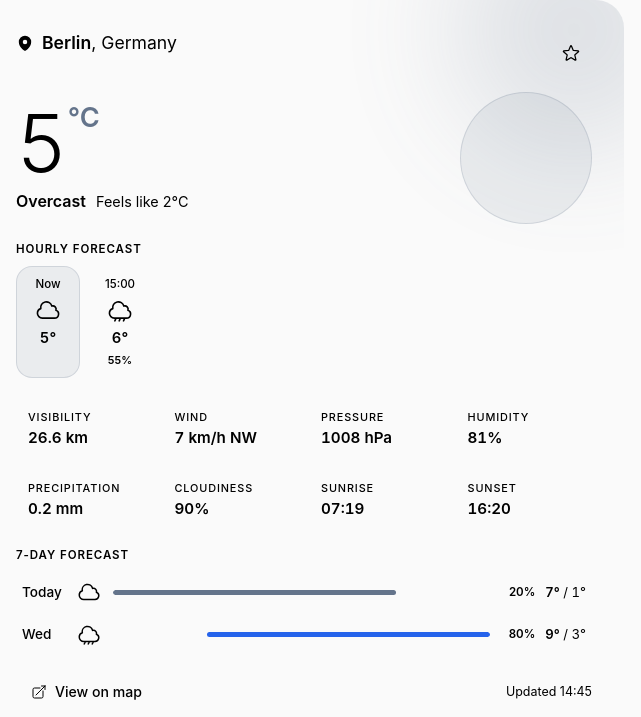
Test: SearchResults › adds the city to favorites
The image size is (641, 717).
What coordinates should you click on to do the following:
click the button named "Add to favorites"
I would click on:
 (571, 53)
Its box is [550,32,592,74].
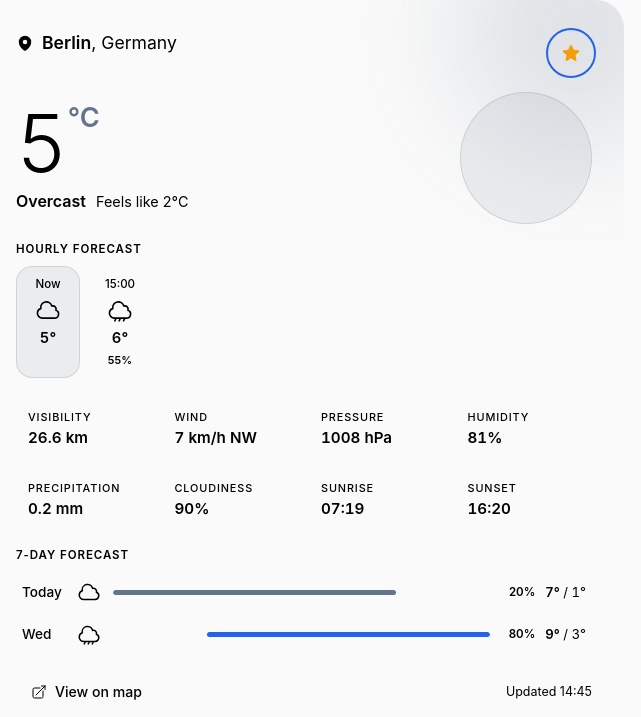
Expected: the button named "Remove from favorites" is pressed, [550,32,592,74]
